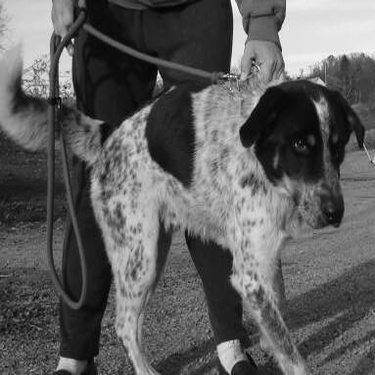dog: (2, 35, 368, 370)
